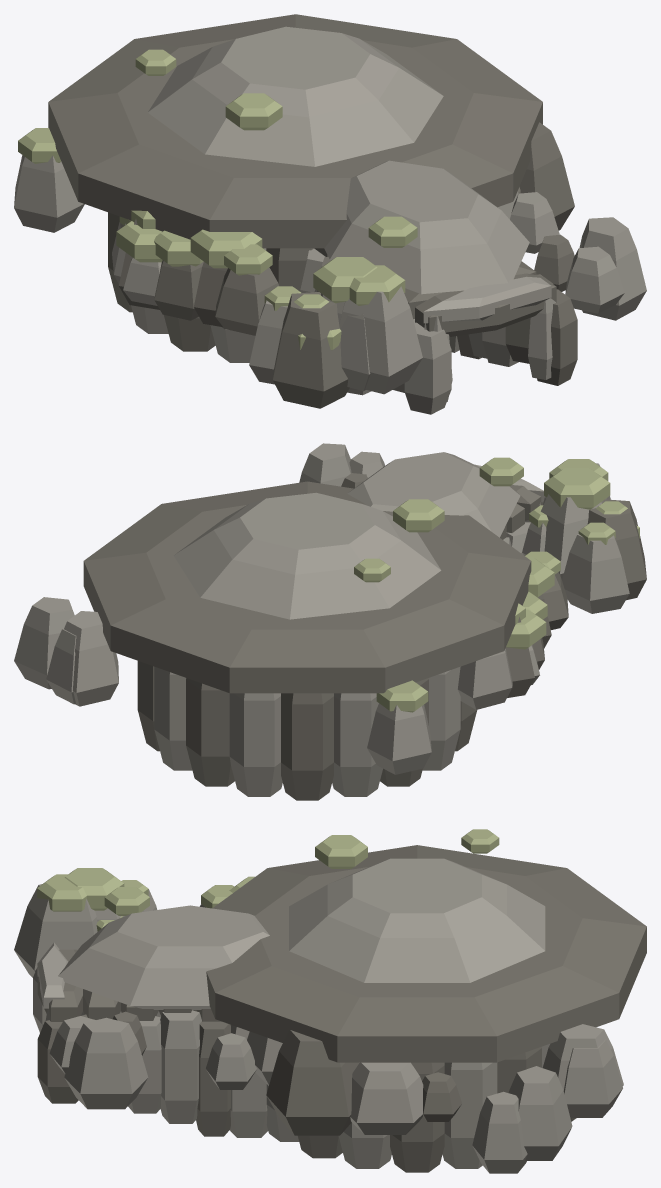
File: cave_cliff.glb
3 renders of one model, top to bottom at view 1: azimuth 30°, elevation 25°; view 2: azimuth 150°, elevation 25°; view 3: azimuth 270°, elevation 25°, orthographic. The views are drawn at different scales.
Parts seen in each view (by area): view 1: cave_cliff; view 2: cave_cliff; view 3: cave_cliff.
Boxes of the visible parts, x1,y1,x2,y2 form: cave_cliff: (14,14,646,414); cave_cliff: (14,443,646,800); cave_cliff: (14,829,646,1173).
Size of the model in its own units: 40.33 by 19.83 by 50.2.
